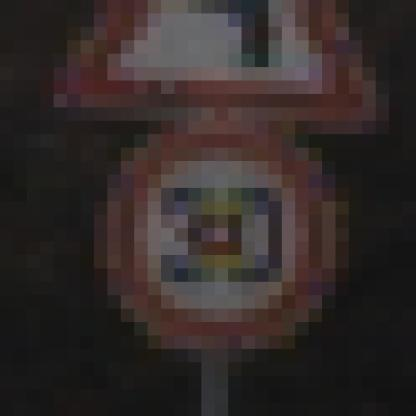Speed Limit 30: (110, 133, 325, 339)
